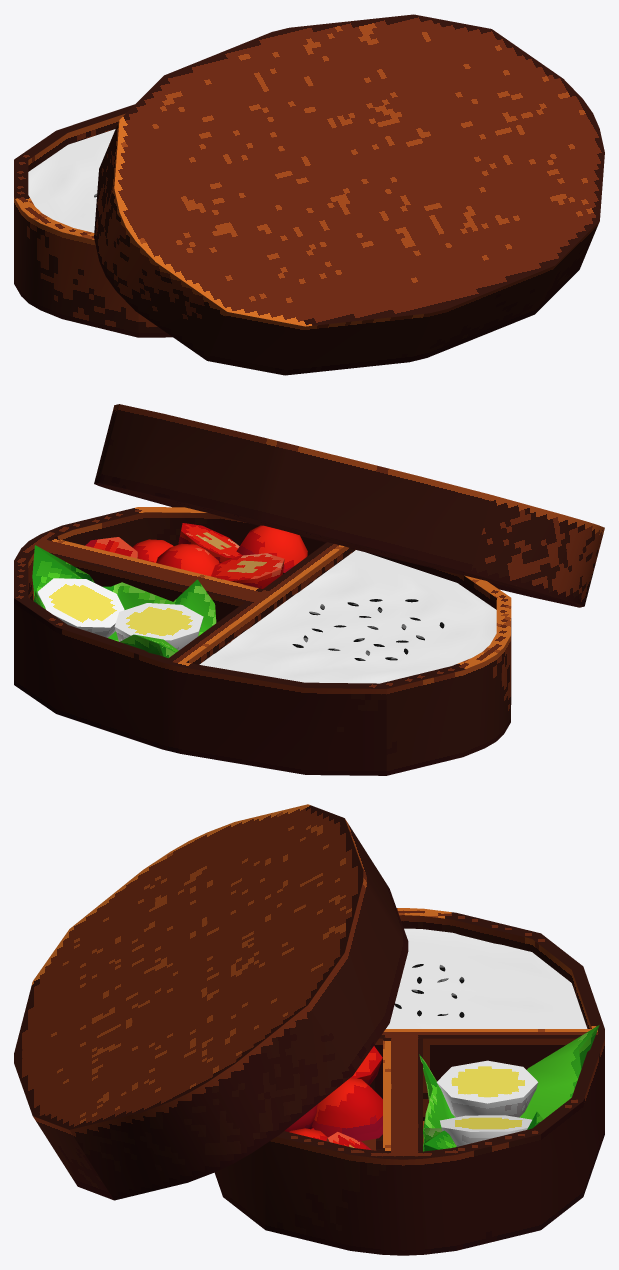
Rendered from bento.glb.
The picture shows the model from 3 angles, top to bottom: view 1: azimuth 30°, elevation 25°; view 2: azimuth 150°, elevation 25°; view 3: azimuth 270°, elevation 25°; orthographic projection. The views are drawn at different scales.
Visible parts, largest first — view 1: mesh; view 2: mesh; view 3: mesh.
Boxes of the visible parts, x1,y1,x2,y2 form: mesh: (14, 14, 604, 375); mesh: (14, 404, 604, 775); mesh: (14, 804, 604, 1255).
Bounding box in the file's own units: 0.1275 × 0.06 × 0.1264.
1 material, 1 textured.
